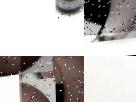ironball: (20, 56, 84, 101), (84, 0, 135, 38), (0, 56, 52, 81), (55, 0, 84, 20)
